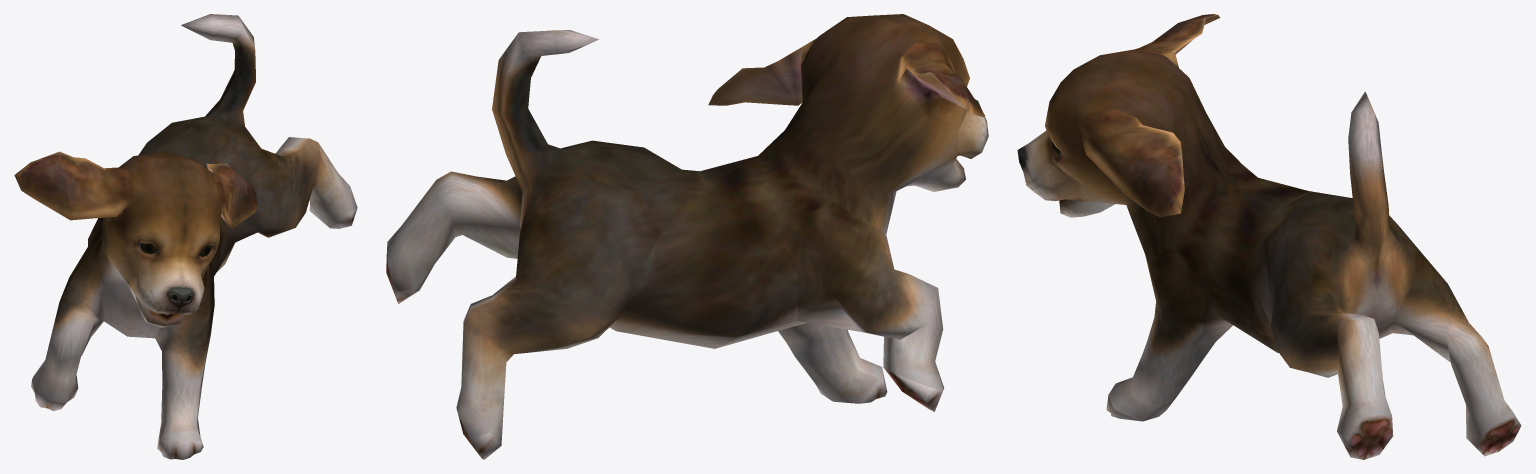
Rendered from Beagle.dae.
3 renders of one model, left to right at view 1: azimuth 30°, elevation 25°; view 2: azimuth 150°, elevation 25°; view 3: azimuth 270°, elevation 25°, orthographic. The views are drawn at different scales.
Visible parts, largest first — view 1: Bgl_a1_0_0_node; view 2: Bgl_a1_0_0_node; view 3: Bgl_a1_0_0_node.
Part boxes in pixels (x1,y1,x2,y2): Bgl_a1_0_0_node: (14,14,357,459); Bgl_a1_0_0_node: (386,14,988,459); Bgl_a1_0_0_node: (1017,14,1521,459).
Size of the model in its own units: 17.82 by 14.05 by 16.8.
2 materials, 2 textured.
